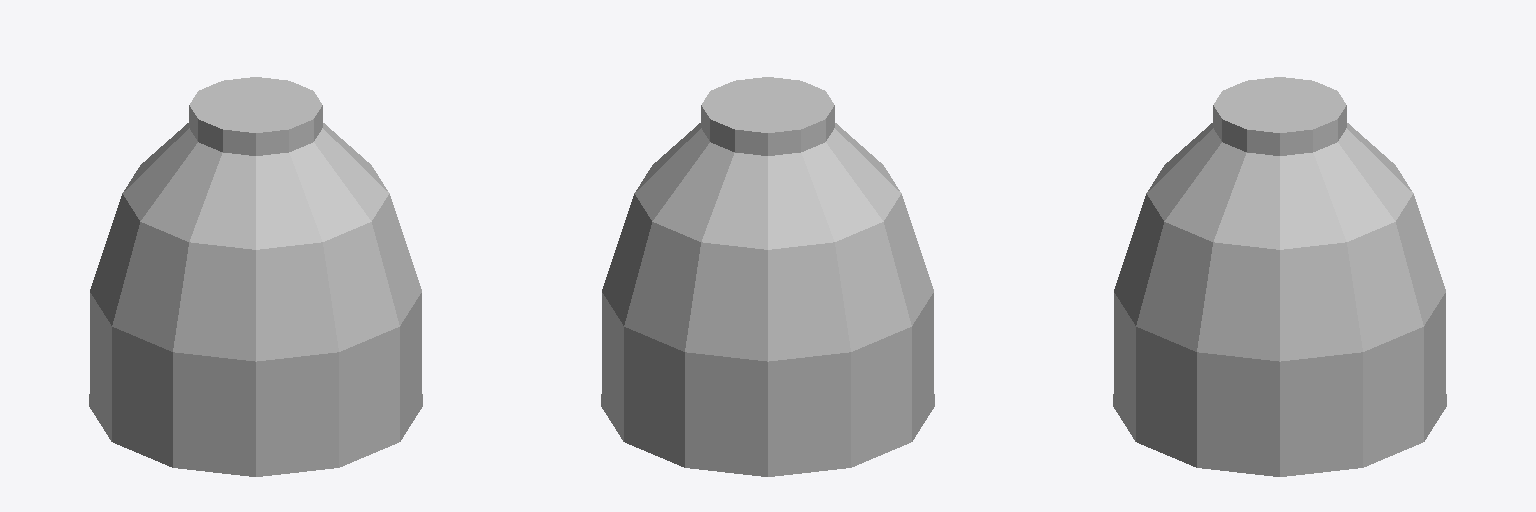
The model's file is dome.obj.
3 renders of one model, left to right at view 1: azimuth 30°, elevation 25°; view 2: azimuth 150°, elevation 25°; view 3: azimuth 270°, elevation 25°, orthographic.
Visible parts, largest first — view 1: Sphere; view 2: Sphere; view 3: Sphere.
Part boxes in pixels (bbox=[...]): Sphere: bbox=[89, 77, 422, 476]; Sphere: bbox=[601, 77, 934, 476]; Sphere: bbox=[1113, 77, 1446, 476].
Size of the model in its own units: 1 by 1 by 1.